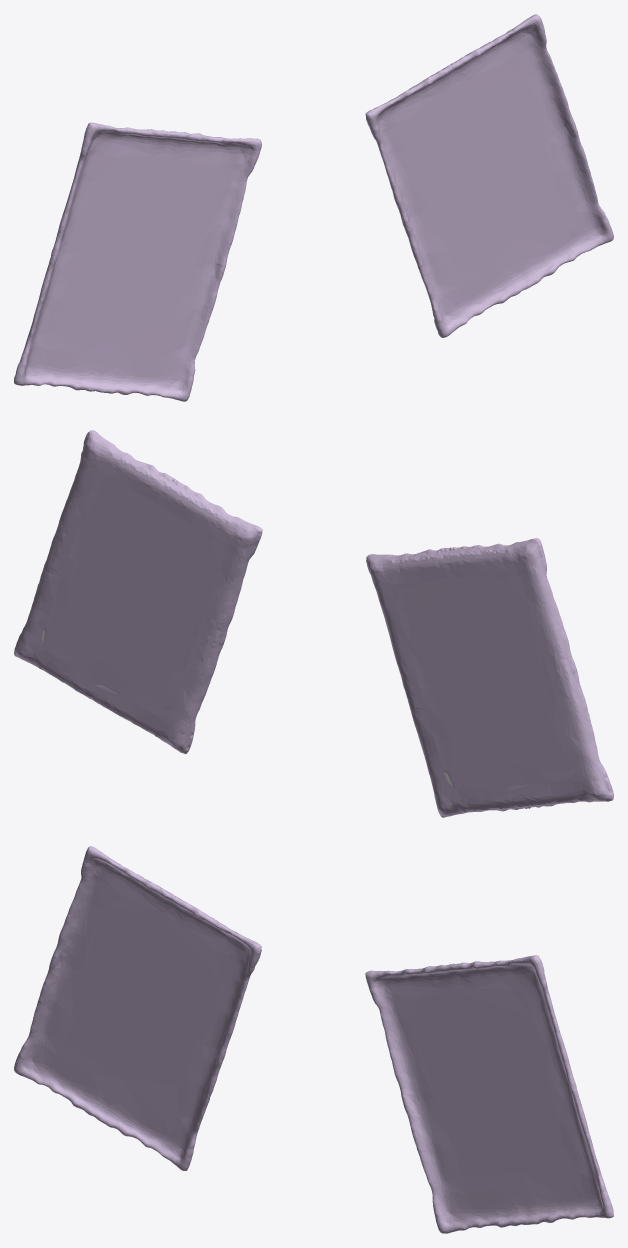
Rendered from info_split_card-CET3QmFT.glb.
The picture shows the model from 3 angles, top to bottom: view 1: azimuth 30°, elevation 25°; view 2: azimuth 150°, elevation 25°; view 3: azimuth 330°, elevation 25°; orthographic projection.
Visible parts, largest first — view 1: frame_L, frame_R; view 2: frame_L, frame_R; view 3: frame_R, frame_L.
Part boxes in pixels (x1,y1,x2,y2): frame_L: (14, 122, 261, 401); frame_R: (365, 14, 613, 337); frame_L: (366, 538, 613, 817); frame_R: (14, 430, 262, 754); frame_R: (365, 955, 613, 1233); frame_L: (14, 846, 261, 1170).
Size of the model in its own units: 1.42 by 0.6808 by 0.0349.
